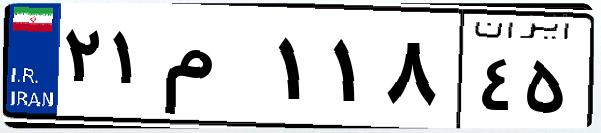1: (270, 28, 330, 110), (330, 28, 385, 110), (110, 28, 158, 98)
2: (57, 26, 110, 100)
4: (475, 38, 525, 113)
5: (525, 38, 570, 115)
8: (385, 28, 445, 110)
م: (158, 20, 270, 120)
